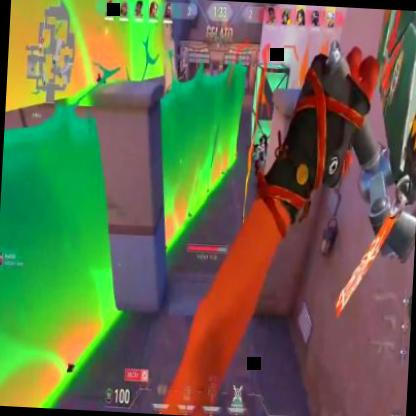enemy: (251, 132, 268, 186)
enemy_head: (258, 134, 263, 144)
